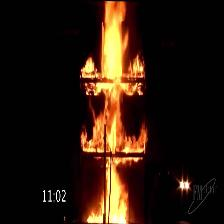fire: (91, 1, 132, 224)
